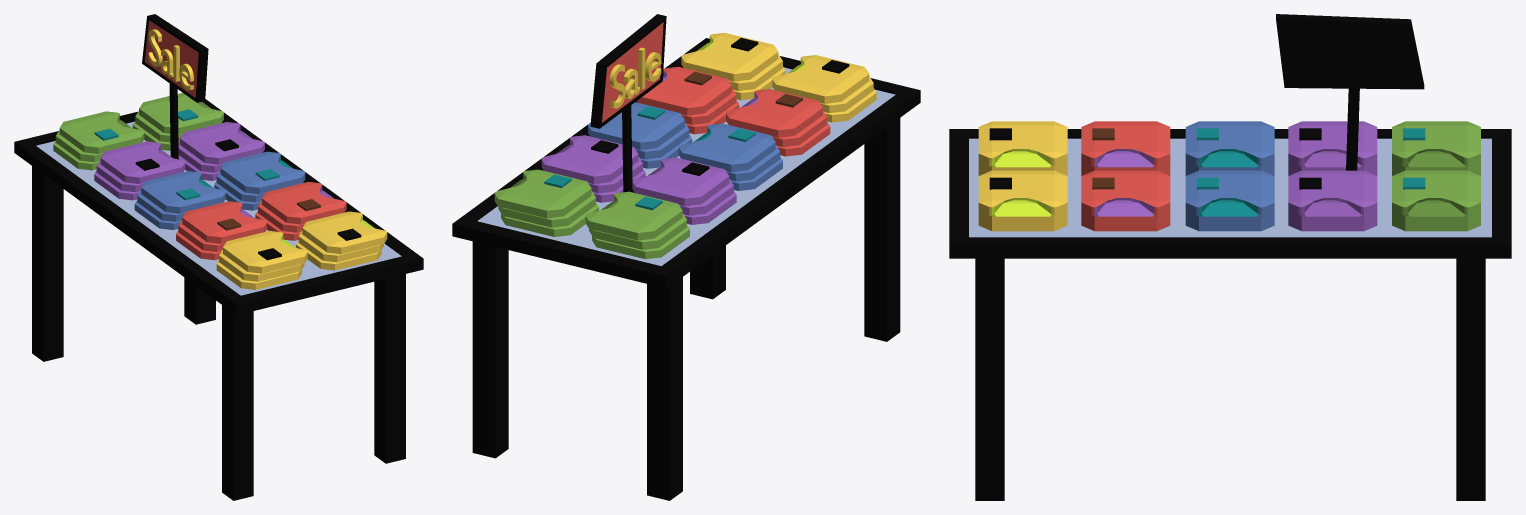
Rendered from table_with_shirts.fbx.
The picture shows the model from 3 angles, left to right: view 1: azimuth 30°, elevation 25°; view 2: azimuth 150°, elevation 25°; view 3: azimuth 270°, elevation 25°; orthographic projection. The views are drawn at different scales.
Parts seen in each view (by area): view 1: Text; view 2: Text; view 3: Text.
Boxes of the visible parts, bbox=[...] form: Text: bbox=[14, 14, 423, 500]; Text: bbox=[452, 14, 920, 500]; Text: bbox=[949, 14, 1511, 500].
Size of the model in its own units: 253 by 441 by 519.
